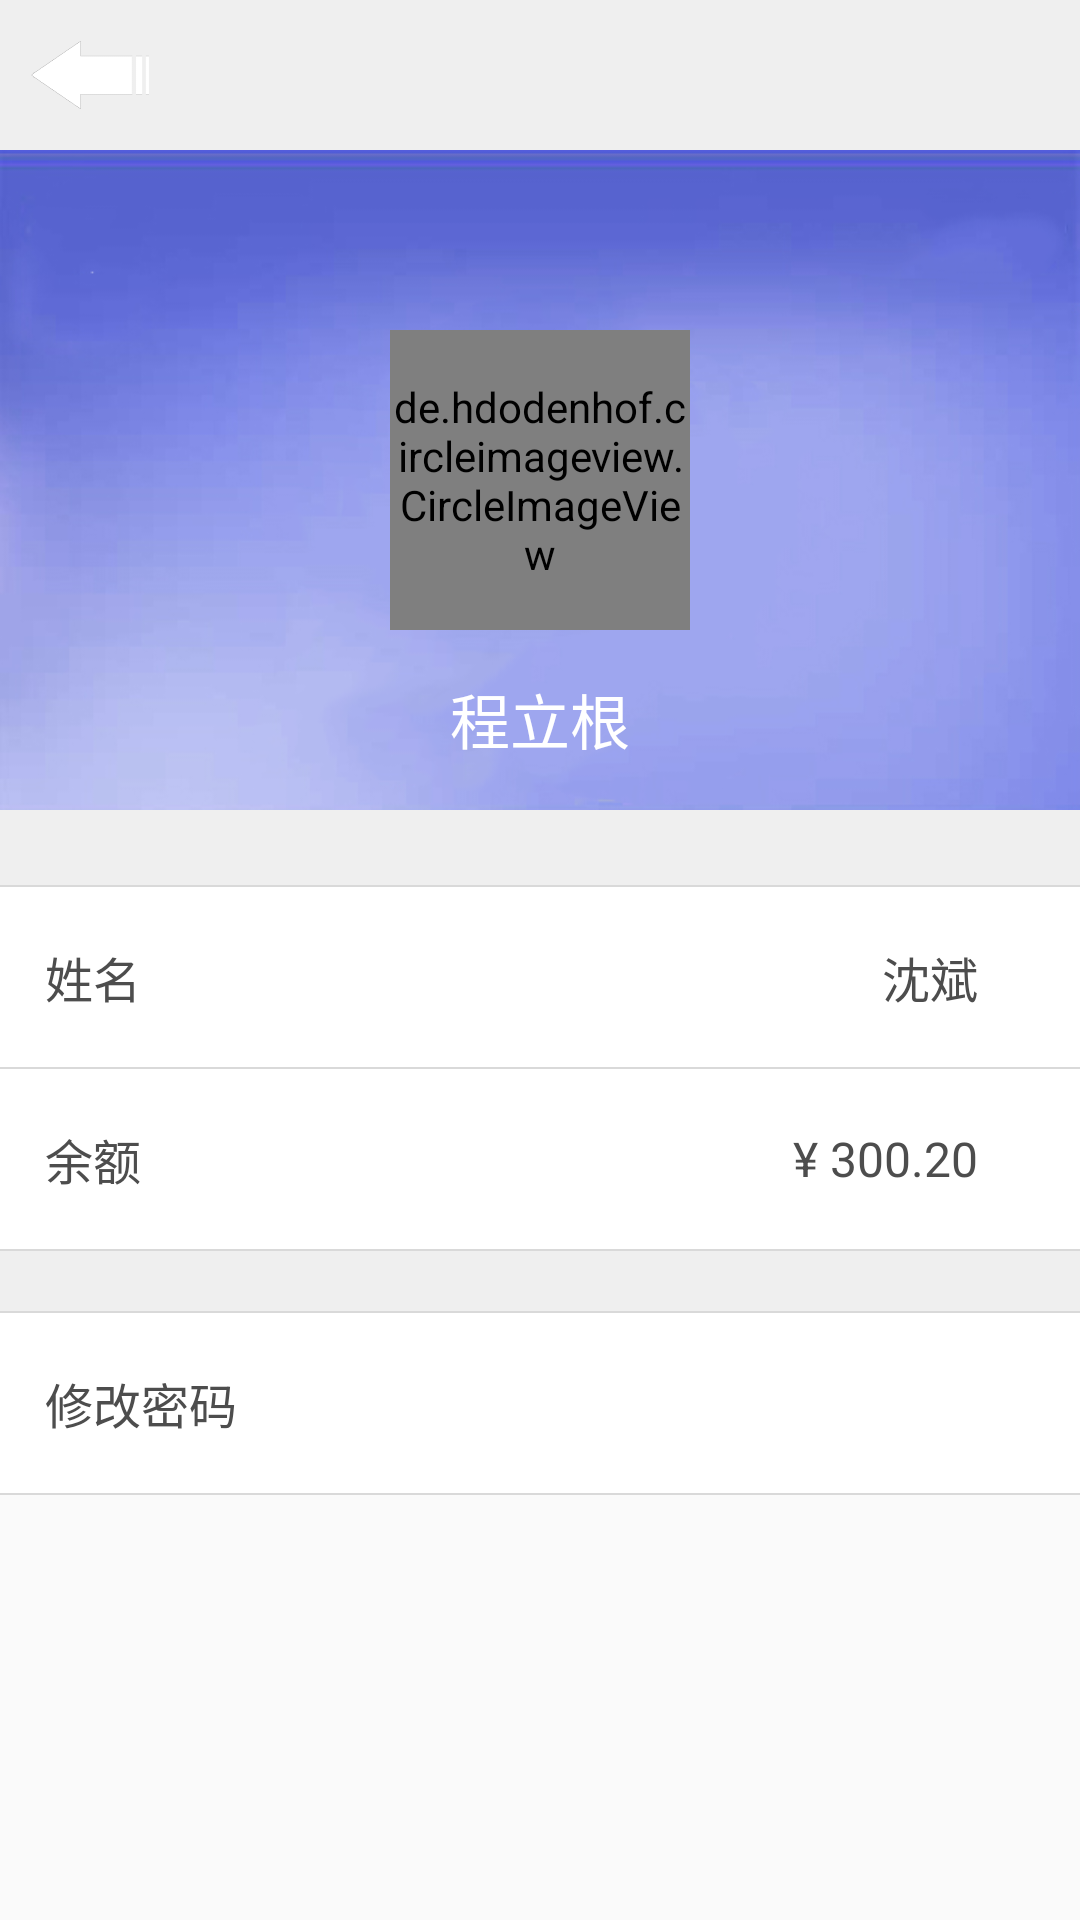

Named icons in this screenshot (1080×1920) and their centers, (x=x, y=y):
back: (x=57, y=75)
